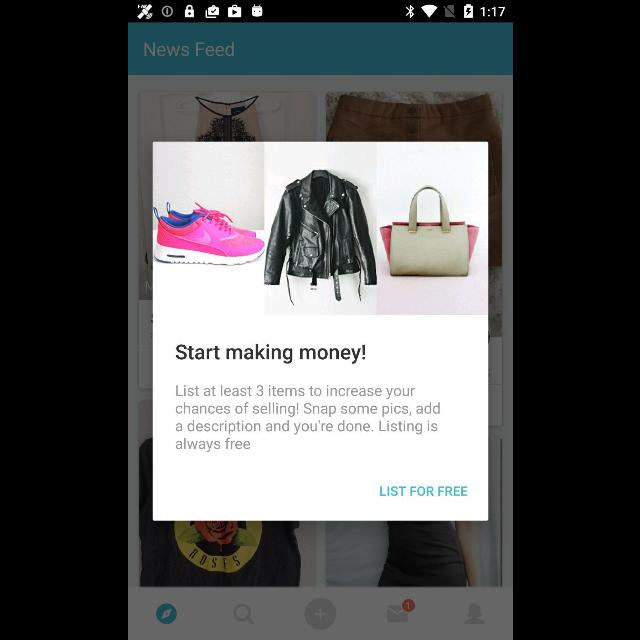image: (152, 142, 488, 314)
panel: (152, 142, 488, 520)
text: (174, 384, 440, 452), (175, 344, 365, 364), (144, 42, 234, 56), (379, 486, 467, 496)
uppertaskbar: (128, 1, 512, 23)
